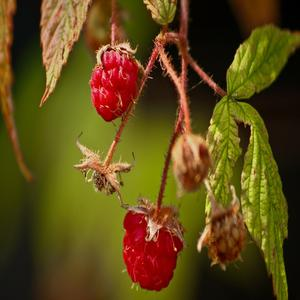raspb: (117, 202, 188, 292)
